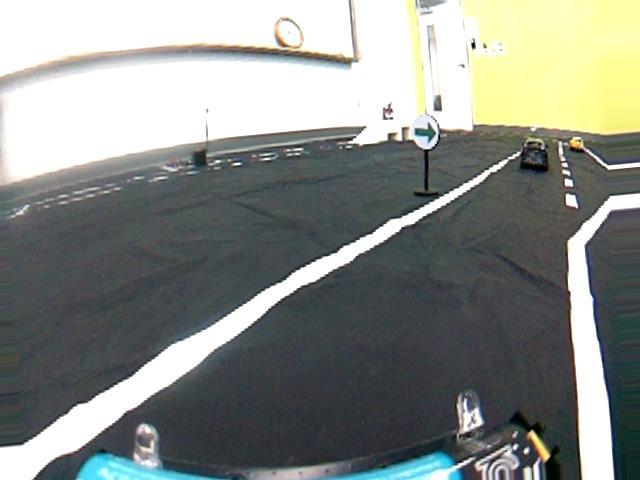car: (524, 130, 555, 178), (563, 130, 590, 149)
right: (3, 239, 640, 479)
sign_right: (410, 116, 442, 150)
